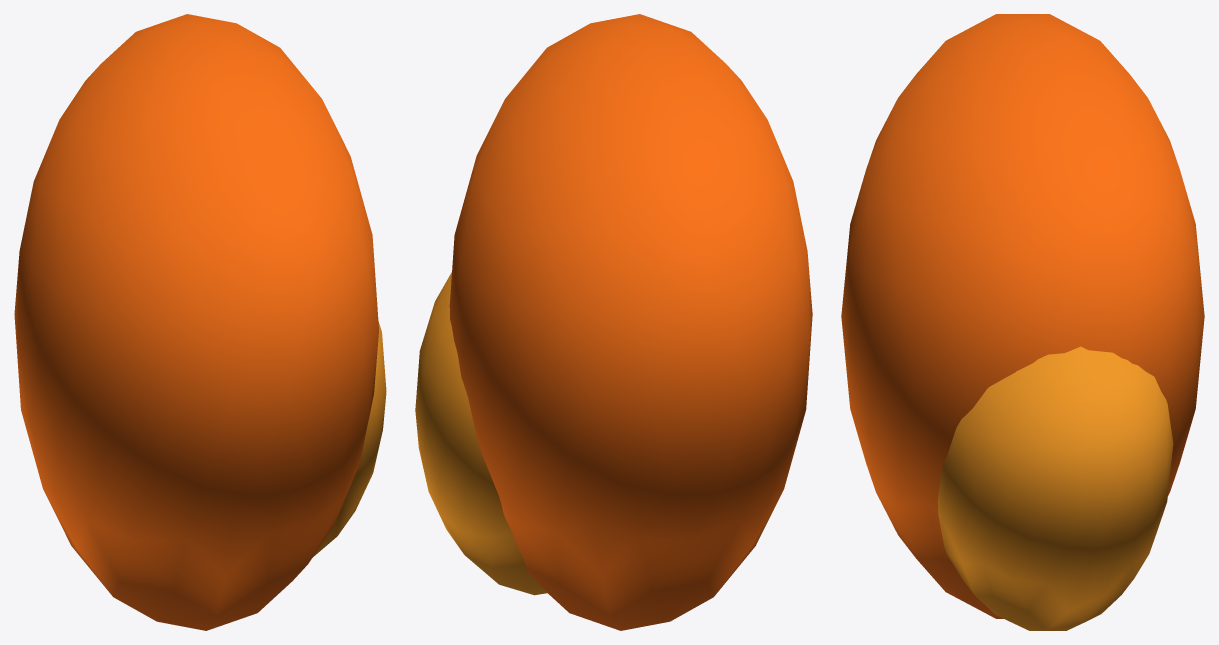
File: campfire-flame-mesh.obj
3 renders of one model, left to right at view 1: azimuth 30°, elevation 25°; view 2: azimuth 150°, elevation 25°; view 3: azimuth 270°, elevation 25°, orthographic.
Visible parts, largest first — view 1: campfire-flame-mesh; view 2: campfire-flame-mesh; view 3: campfire-flame-mesh.
Boxes of the visible parts, x1,y1,x2,y2 form: campfire-flame-mesh: (14, 14, 386, 630); campfire-flame-mesh: (415, 14, 812, 630); campfire-flame-mesh: (841, 14, 1204, 630).
Size of the model in its own units: 0.315 by 0.522 by 0.29.
